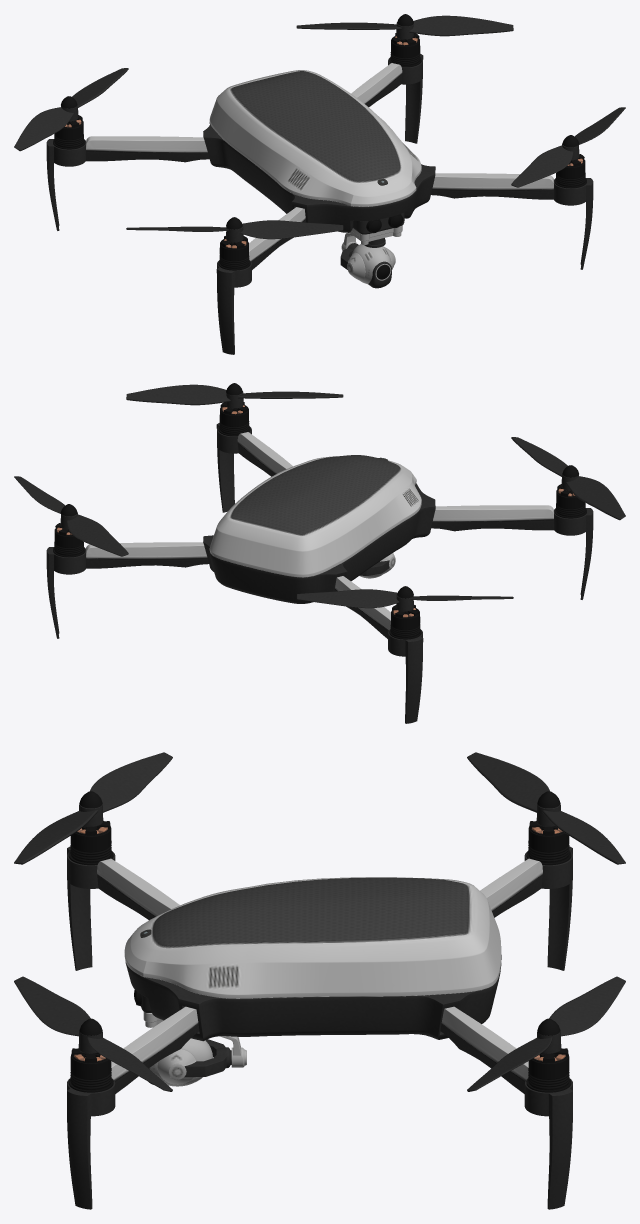
File: scene_static.gltf
3 views of the same model, one above another, from view 1: azimuth 30°, elevation 25°; view 2: azimuth 150°, elevation 25°; view 3: azimuth 270°, elevation 25° (orthographic). The views are drawn at different scales.
Visible parts, largest first — view 1: GLTF_created_0; view 2: GLTF_created_0; view 3: GLTF_created_0.
Part boxes in pixels (x1=…): GLTF_created_0: x1=14, y1=14, x2=625, y2=354; GLTF_created_0: x1=14, y1=383, x2=625, y2=723; GLTF_created_0: x1=14, y1=752, x2=625, y2=1209.
Bounding box in the file's own units: 2.81 × 0.7359 × 2.15.
Materials: 77 (77 with a texture image).
